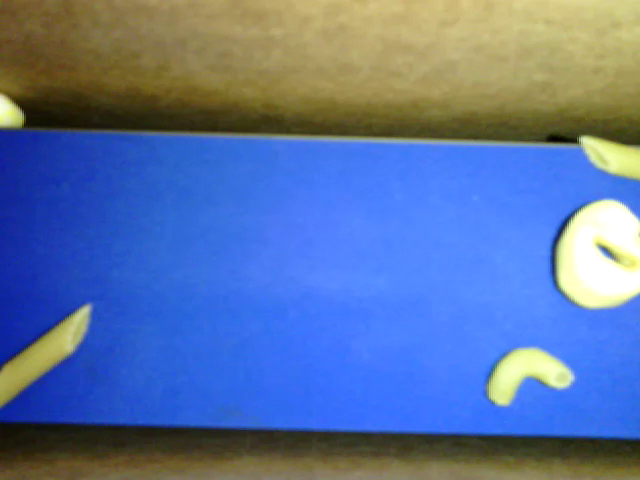elbow: (487, 347, 575, 406)
penne: (1, 303, 92, 408), (578, 134, 639, 180)
tortellini: (553, 198, 639, 309)
